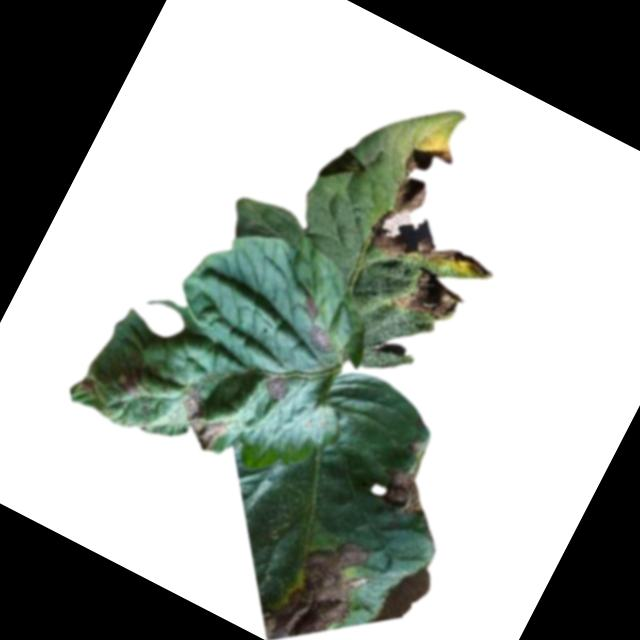Early_blight: (359, 122, 539, 300), (254, 518, 382, 640), (389, 260, 469, 335), (167, 384, 240, 457), (372, 456, 441, 524), (285, 293, 351, 356), (105, 358, 150, 402), (261, 367, 295, 403), (77, 373, 100, 395)
